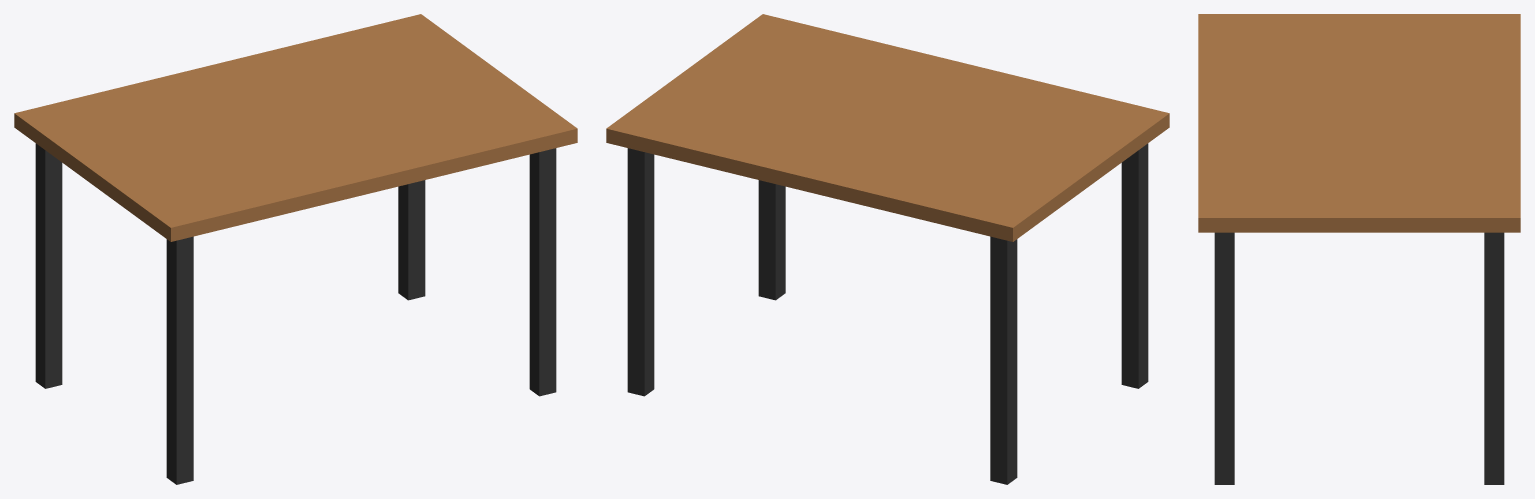
File: mesa.glb
3 renders of one model, left to right at view 1: azimuth 30°, elevation 25°; view 2: azimuth 150°, elevation 25°; view 3: azimuth 270°, elevation 25°, orthographic. The views are drawn at different scales.
Visible parts, largest first — view 1: tablero, pata (×4); view 2: tablero, pata (×4); view 3: tablero, pata (×2).
Boxes of the visible parts, box(x1,y1,x2,y2) form: tablero: box(14, 14, 577, 241); pata (×4): box(35, 143, 556, 484); tablero: box(606, 14, 1169, 241); pata (×4): box(627, 143, 1148, 484); tablero: box(1198, 14, 1520, 232); pata (×2): box(1214, 232, 1504, 484).
Size of the model in its own units: 1.2 by 0.75 by 0.8.
